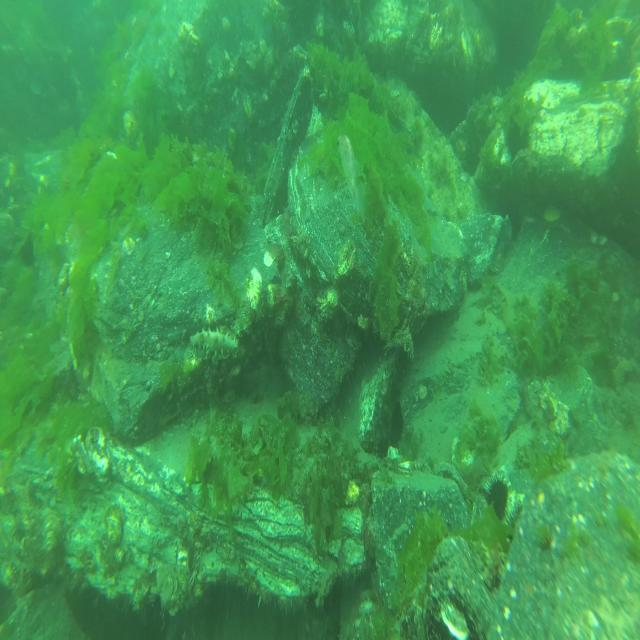echinus: (482, 470, 512, 523)
holothurian: (187, 322, 240, 363)
